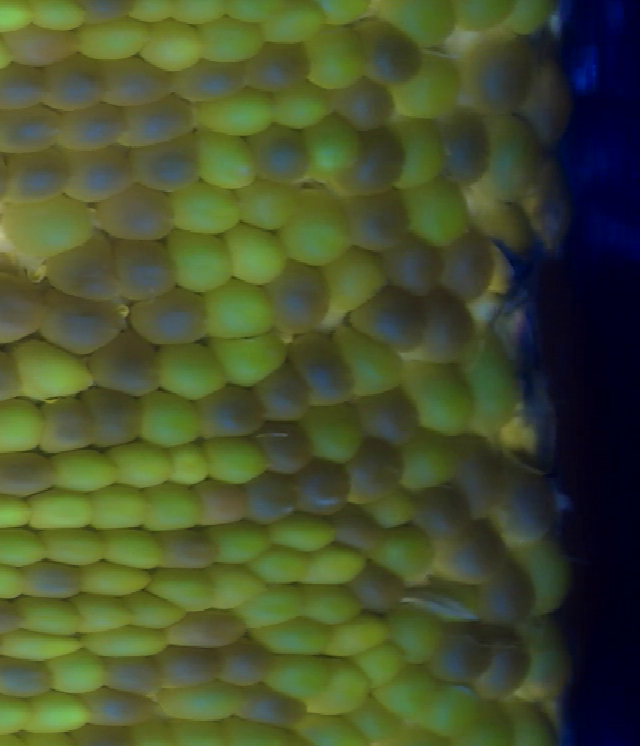fluorescent: (0, 188, 100, 267), (459, 327, 526, 441), (396, 357, 484, 442), (3, 332, 103, 406), (272, 184, 359, 269), (394, 170, 477, 256), (326, 320, 413, 402), (479, 104, 545, 208), (513, 612, 583, 710), (313, 243, 397, 321), (157, 225, 242, 302), (514, 533, 584, 626), (381, 111, 455, 193), (205, 324, 294, 391), (296, 18, 369, 98), (394, 48, 471, 123), (294, 400, 376, 470), (163, 175, 248, 242), (124, 384, 210, 450), (198, 275, 280, 344), (217, 217, 297, 287), (392, 425, 467, 497), (297, 112, 371, 184), (184, 124, 260, 194), (192, 82, 286, 138), (191, 431, 279, 490), (135, 14, 214, 78), (231, 172, 308, 236), (38, 443, 125, 498), (147, 338, 230, 395), (302, 654, 372, 721), (129, 478, 208, 537), (369, 521, 441, 585), (101, 436, 178, 495), (382, 600, 449, 667), (143, 563, 226, 617), (260, 650, 341, 705), (226, 580, 310, 633), (89, 525, 173, 578), (21, 482, 105, 535), (81, 478, 155, 537), (260, 81, 342, 134), (200, 514, 279, 569), (61, 586, 141, 640), (69, 16, 155, 66), (378, 1, 461, 52), (192, 14, 267, 70), (9, 592, 94, 641), (292, 577, 366, 633), (67, 556, 155, 603), (32, 523, 114, 572), (419, 680, 487, 739), (318, 613, 399, 662), (338, 691, 410, 746), (200, 558, 275, 610), (40, 646, 116, 697), (370, 663, 439, 719), (76, 620, 173, 659), (19, 688, 96, 737), (245, 614, 328, 659), (282, 705, 373, 746), (0, 624, 88, 666), (242, 541, 317, 590), (297, 540, 372, 589), (113, 587, 191, 633), (253, 1, 330, 47), (0, 393, 53, 459), (269, 508, 345, 554), (347, 644, 414, 694), (497, 697, 564, 746), (158, 441, 220, 492), (359, 486, 423, 533), (214, 710, 295, 746), (0, 522, 54, 572), (446, 1, 521, 35), (22, 1, 96, 35), (0, 489, 41, 538), (0, 689, 38, 741), (163, 1, 228, 31), (0, 1, 42, 44), (0, 556, 31, 608), (128, 1, 177, 29)
nonfluorescent: (485, 443, 565, 556), (459, 32, 545, 122), (32, 284, 130, 359), (441, 427, 516, 525), (279, 326, 365, 411), (255, 254, 339, 341), (346, 280, 433, 363), (39, 225, 125, 306), (341, 12, 426, 91), (518, 49, 582, 153), (342, 381, 432, 454), (330, 119, 409, 202), (425, 102, 497, 193), (340, 184, 422, 262), (84, 327, 169, 402), (122, 285, 214, 353), (90, 179, 180, 248), (410, 286, 483, 370), (330, 434, 410, 510), (233, 31, 320, 100), (469, 620, 537, 707), (87, 50, 182, 112), (421, 617, 502, 688), (433, 224, 502, 306), (55, 142, 143, 206), (474, 555, 545, 634), (109, 93, 204, 152), (189, 379, 275, 444), (242, 119, 320, 189), (105, 233, 183, 303), (438, 517, 513, 589), (249, 413, 325, 484), (127, 131, 208, 197), (376, 228, 451, 298), (37, 52, 118, 116), (227, 678, 315, 736), (285, 450, 356, 521), (155, 604, 256, 653), (325, 76, 406, 137), (0, 267, 56, 354), (143, 641, 234, 694), (0, 146, 77, 208), (79, 384, 149, 452), (321, 500, 395, 564), (238, 467, 311, 531), (29, 392, 104, 454), (249, 361, 318, 428), (202, 631, 279, 691), (343, 558, 416, 620), (168, 55, 255, 107), (91, 646, 171, 702), (187, 471, 258, 534), (145, 523, 224, 579), (0, 21, 87, 71), (50, 103, 132, 156), (78, 685, 168, 732), (0, 101, 65, 159), (0, 445, 66, 501), (19, 557, 94, 605), (0, 654, 67, 704), (0, 60, 54, 116), (73, 1, 149, 30), (0, 592, 30, 641)
